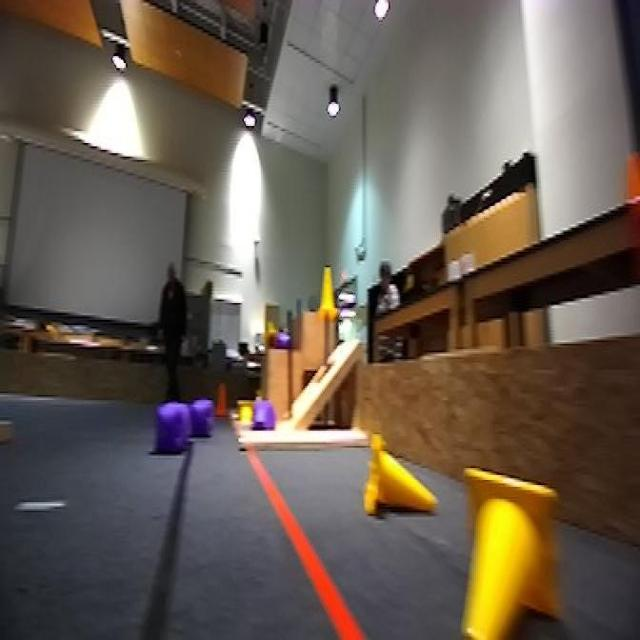frc_cone: (456, 463, 564, 640), (360, 432, 436, 530), (317, 264, 340, 320), (235, 402, 258, 427)
frc_cube: (153, 405, 190, 453), (189, 396, 214, 441), (252, 400, 272, 429), (272, 330, 292, 349)
